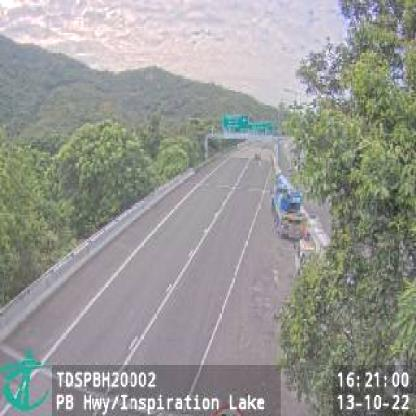Truck: (271, 177, 306, 238)
